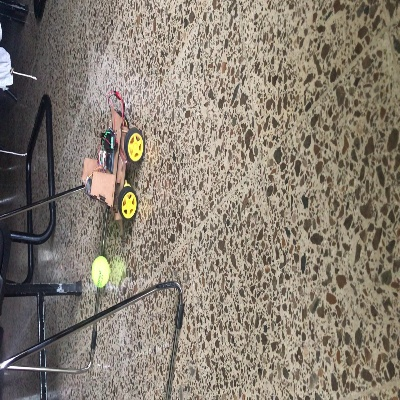Ball: (91, 256, 110, 287)
Robot: (81, 105, 144, 219)
